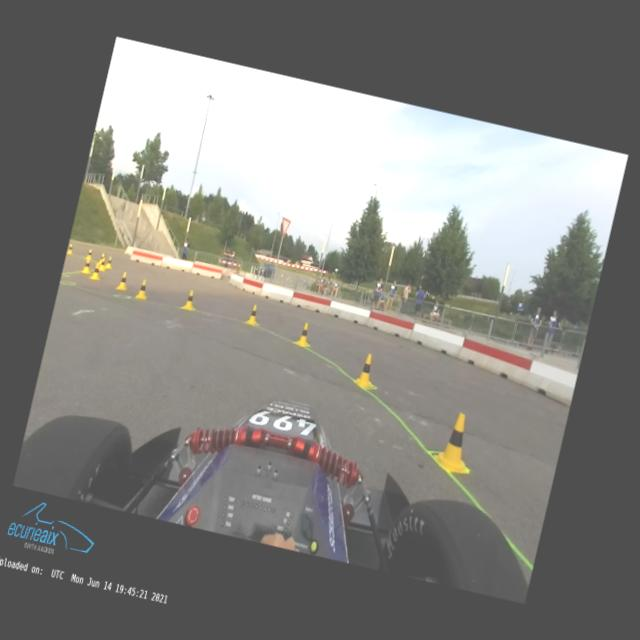yellow_cone: (432, 409, 478, 475), (354, 352, 379, 388), (296, 322, 312, 346), (134, 278, 150, 300), (246, 303, 260, 325), (183, 288, 196, 310), (116, 270, 130, 290), (89, 262, 103, 280), (81, 256, 92, 274), (105, 256, 113, 268), (98, 258, 106, 270), (66, 243, 73, 254), (98, 252, 105, 263), (86, 248, 92, 259)
